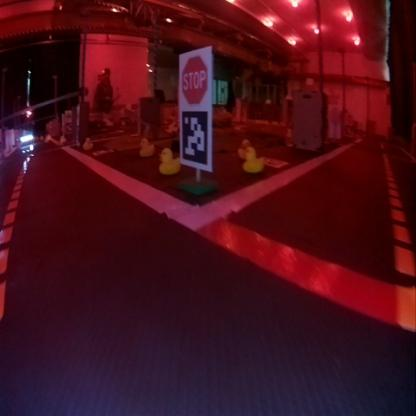Duckie: (157, 148, 180, 174), (242, 146, 264, 172), (138, 137, 154, 157), (82, 137, 92, 149)
QR code: (180, 107, 208, 169), (260, 155, 288, 168), (92, 147, 113, 154)
Stop sign: (178, 56, 209, 102)
Traffic light: (26, 109, 32, 116)
